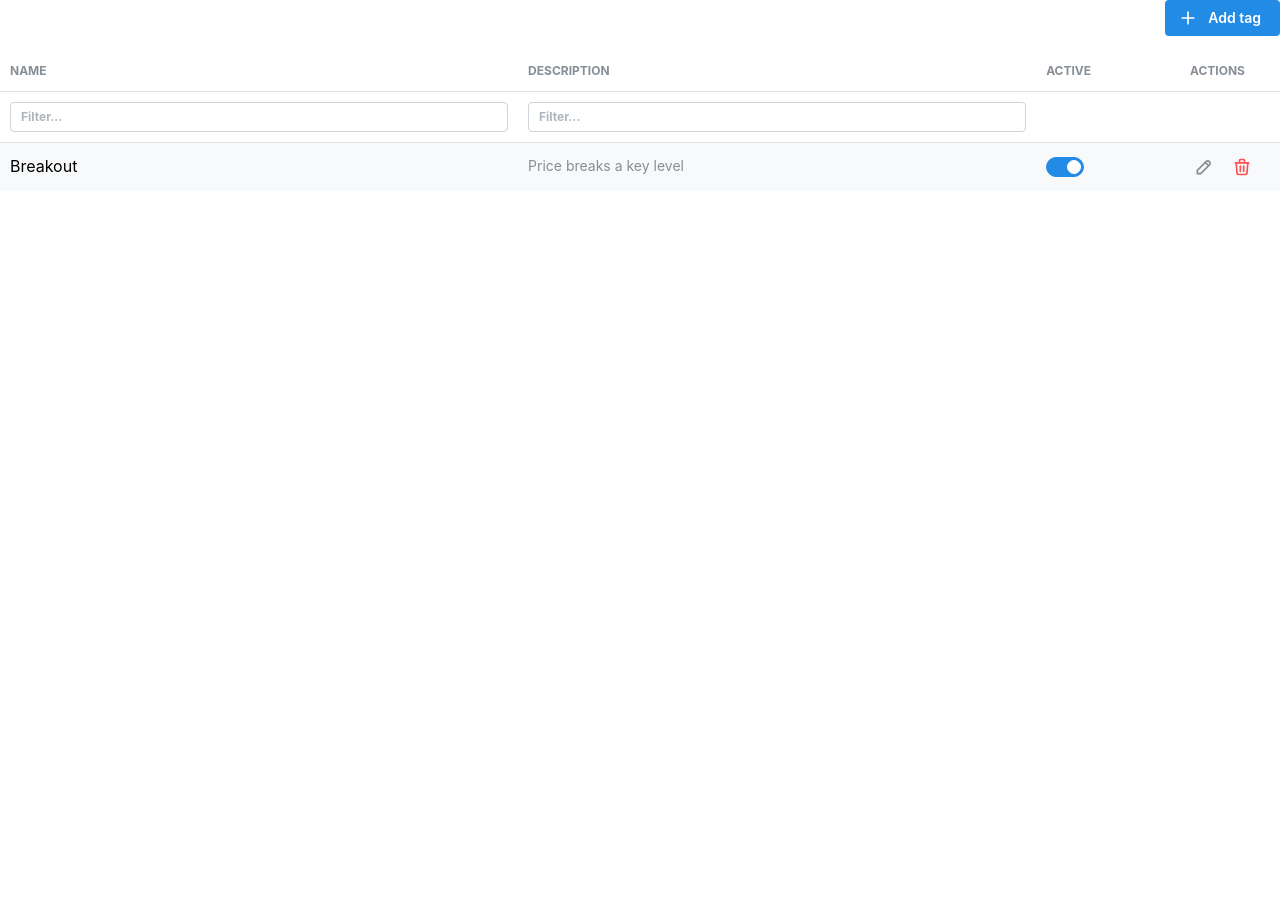
TagsTab › cascade delete — trade_count == 0 › shows simple copy, Delete button, and issues DELETE /api/tags/{id}
Expected: the text "Breakout" is shown, [10,156,77,176]
Click the button named "Delete Breakout".
click(1242, 167)  # box [1228,153,1256,181]
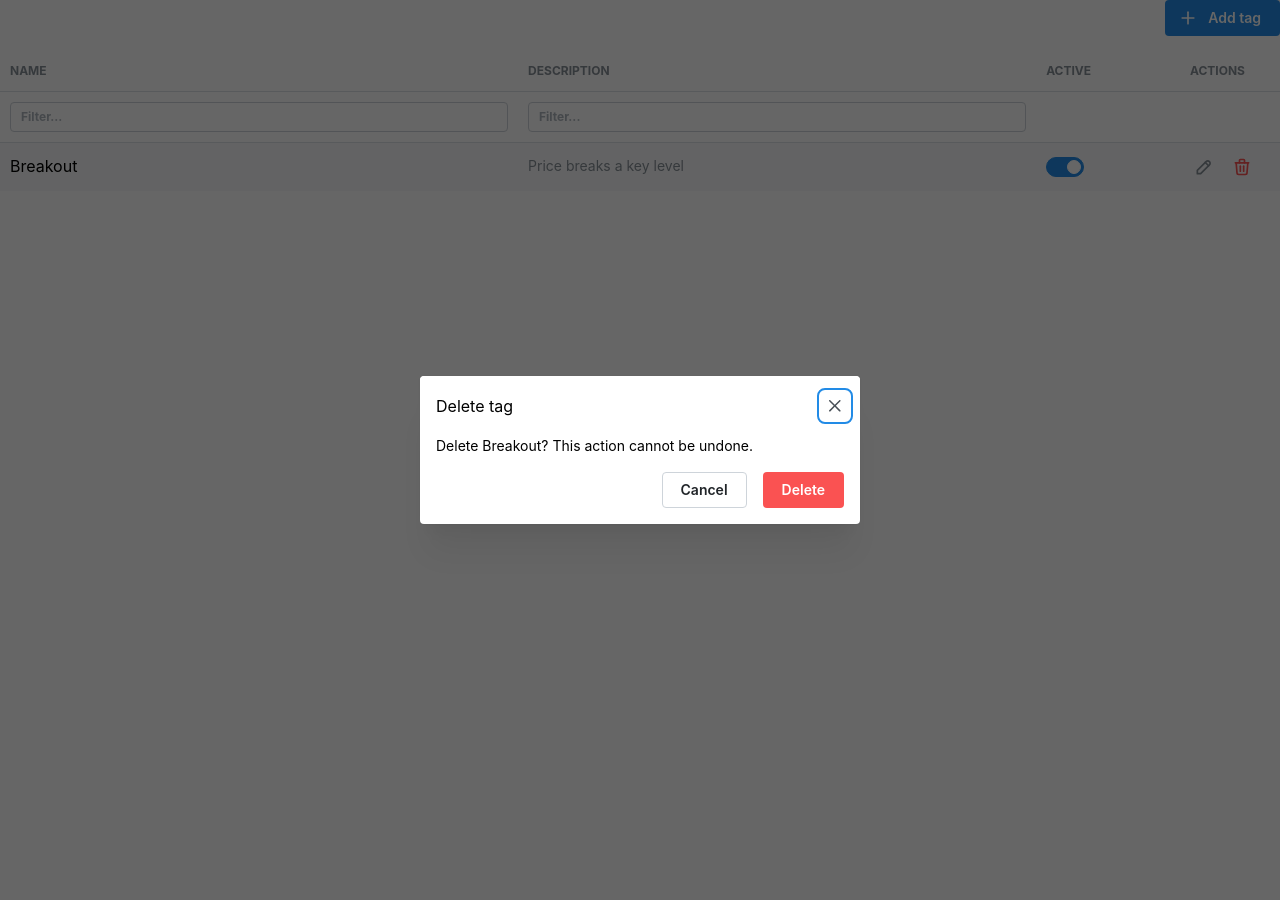
Expected: the text "Delete Breakout? This action cannot be undone." is shown, [436,437,753,454]
Expected: the button "Delete" is shown
Click the button "Delete".
click(803, 490)  # box [763,472,844,508]
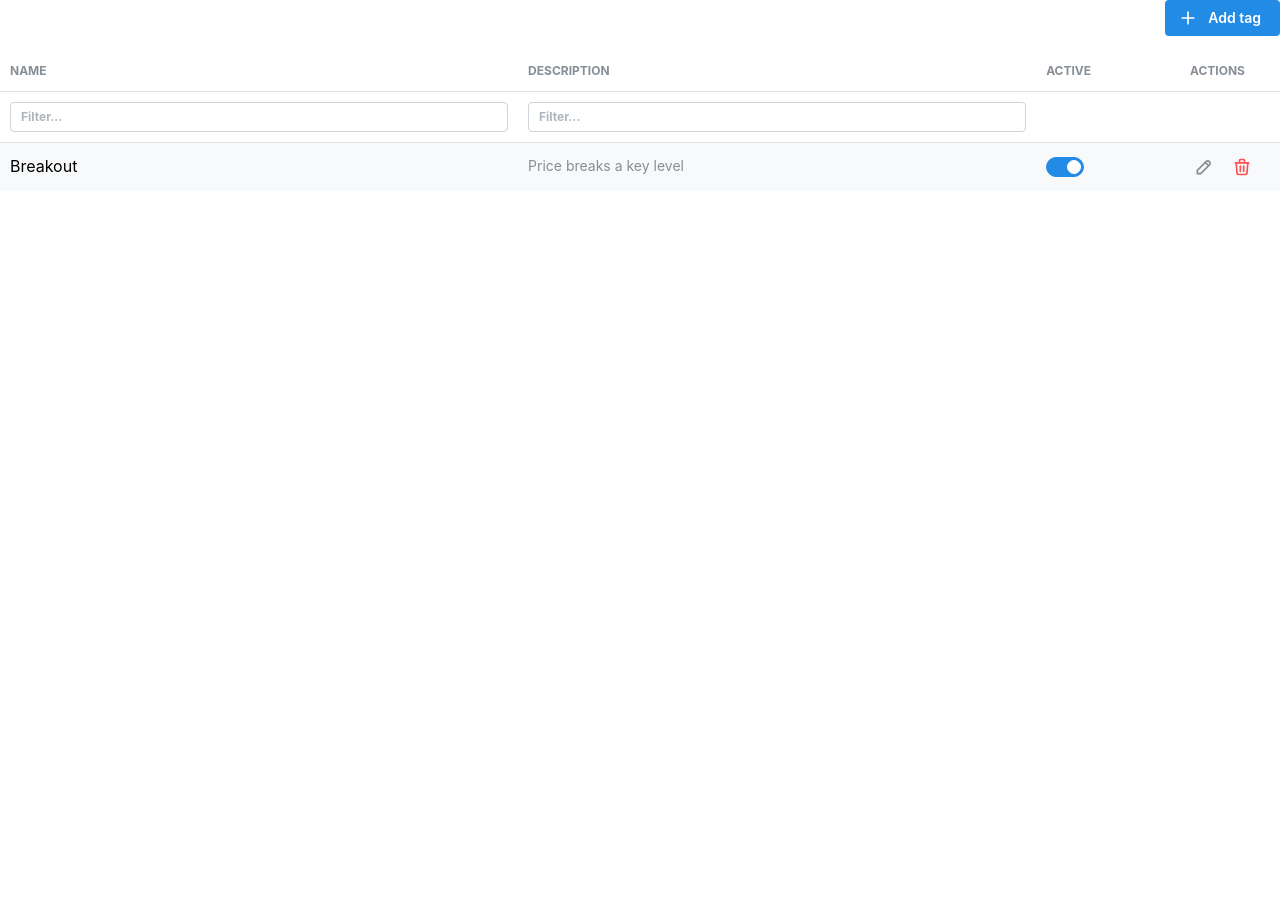
Expected: the dialog is gone
